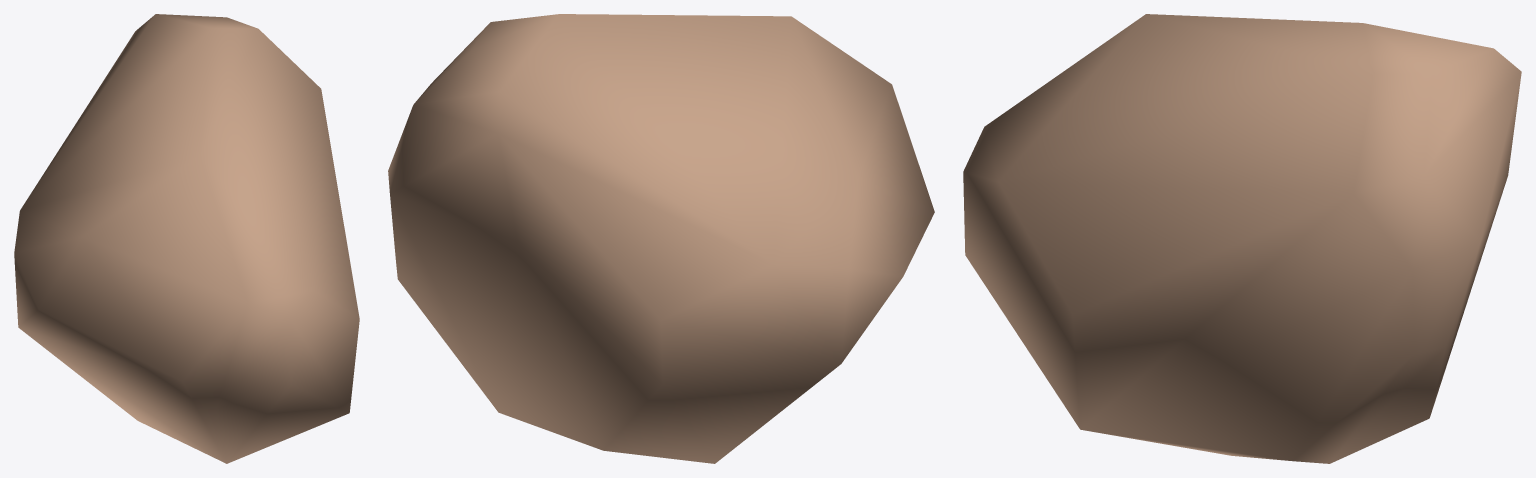
File: ZMOBA_Rock_B_3.FBX
3 views of the same model, side by side, from view 1: azimuth 30°, elevation 25°; view 2: azimuth 150°, elevation 25°; view 3: azimuth 270°, elevation 25° (orthographic). The views are drawn at different scales.
Visible parts, largest first — view 1: ZMOBA_Rock_B_3; view 2: ZMOBA_Rock_B_3; view 3: ZMOBA_Rock_B_3.
Boxes of the visible parts, left/top/right/bottom form: ZMOBA_Rock_B_3: left=14, top=14, right=359, bottom=463; ZMOBA_Rock_B_3: left=388, top=14, right=934, bottom=463; ZMOBA_Rock_B_3: left=963, top=14, right=1521, bottom=463.
Size of the model in its own units: 159 by 163 by 180.
